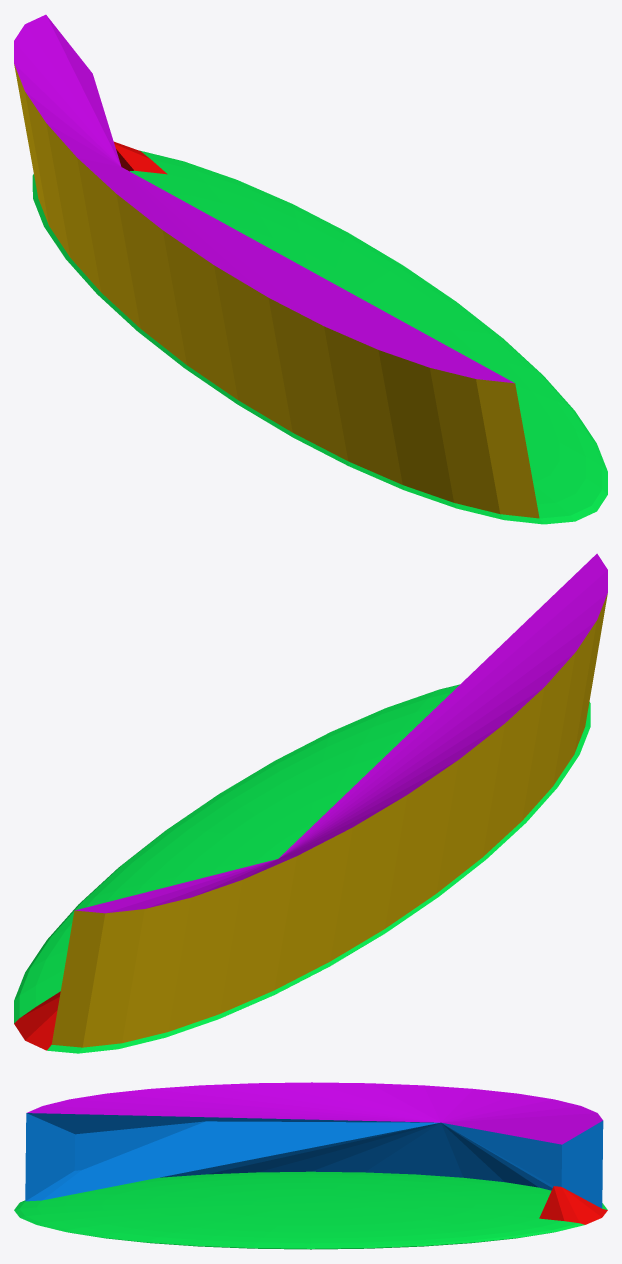
Rendered from lugar.fbx.
3 views of the same model, one above another, from view 1: azimuth 30°, elevation 25°; view 2: azimuth 150°, elevation 25°; view 3: azimuth 270°, elevation 25° (orthographic). The views are drawn at different scales.
Visible parts, largest first — view 1: Sphere; view 2: Sphere; view 3: Sphere.
Part boxes in pixels (left/top/right/bottom): Sphere: left=14, top=14, right=607, bottom=524; Sphere: left=14, top=553, right=607, bottom=1053; Sphere: left=14, top=1082, right=607, bottom=1249.
Bounding box in the file's own units: 6.49 × 1.09 × 2.15.
